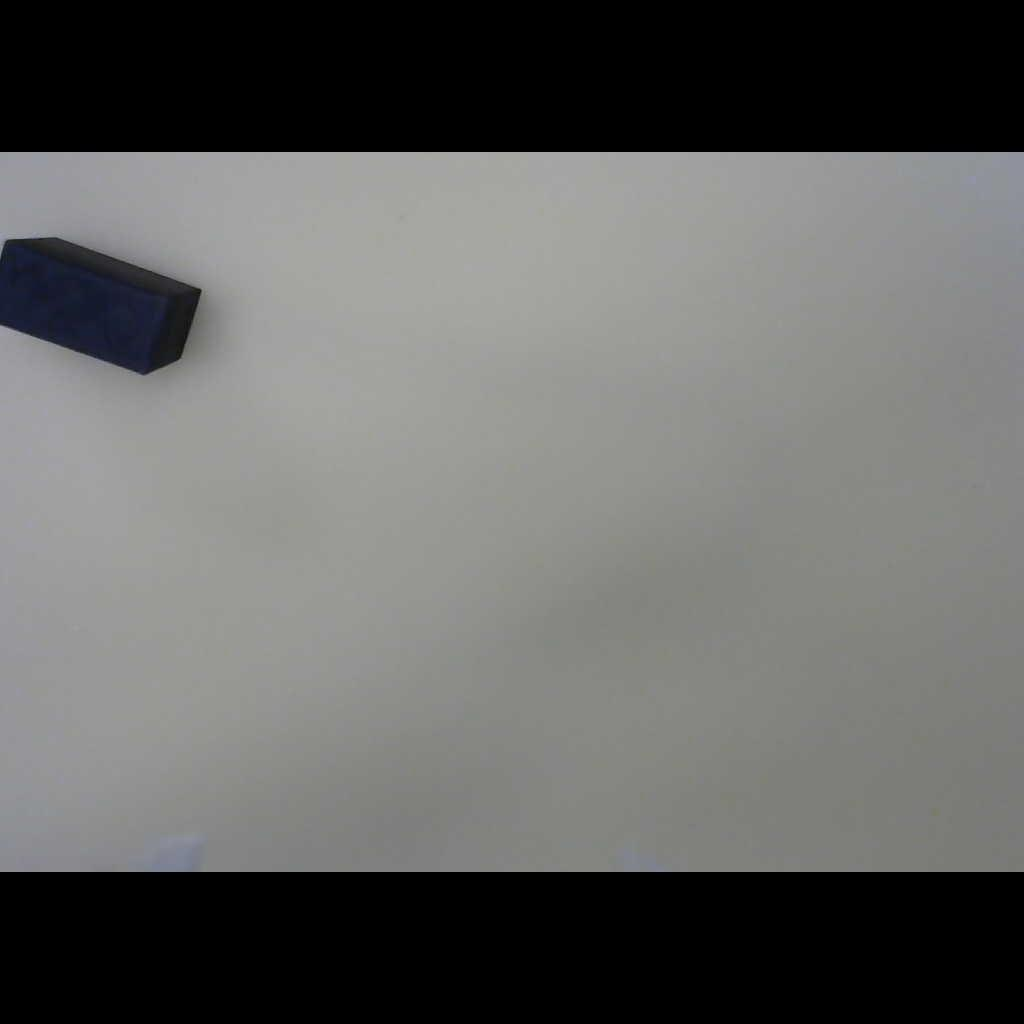rectangle: (0, 207, 227, 403)
